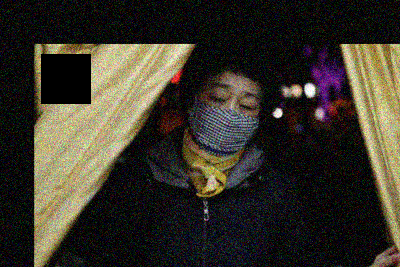with_mask: (189, 80, 262, 154)
